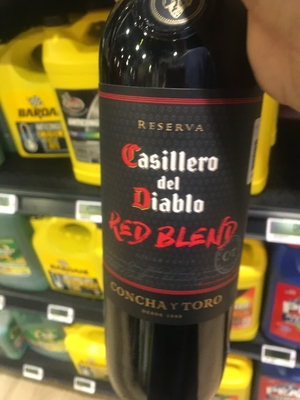casillero del diablo red blend: (85, 33, 266, 384)
